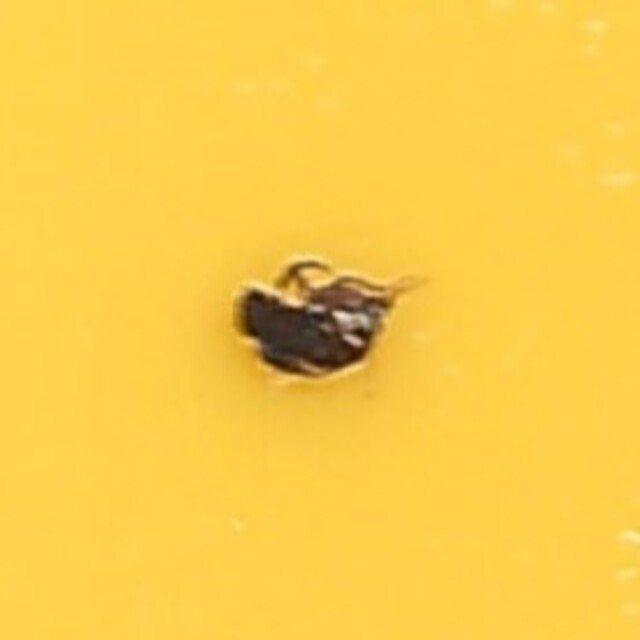Brachycera: (233, 259, 407, 381)
